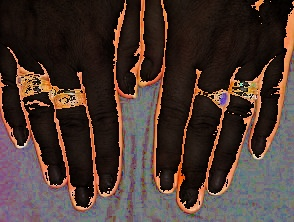Nail_psoriasis: (167, 178, 214, 222), (34, 152, 76, 194), (128, 50, 166, 91), (241, 126, 280, 165), (114, 57, 145, 99), (1, 117, 37, 152), (89, 164, 124, 200), (200, 163, 233, 201), (67, 178, 97, 213), (154, 159, 181, 195)
